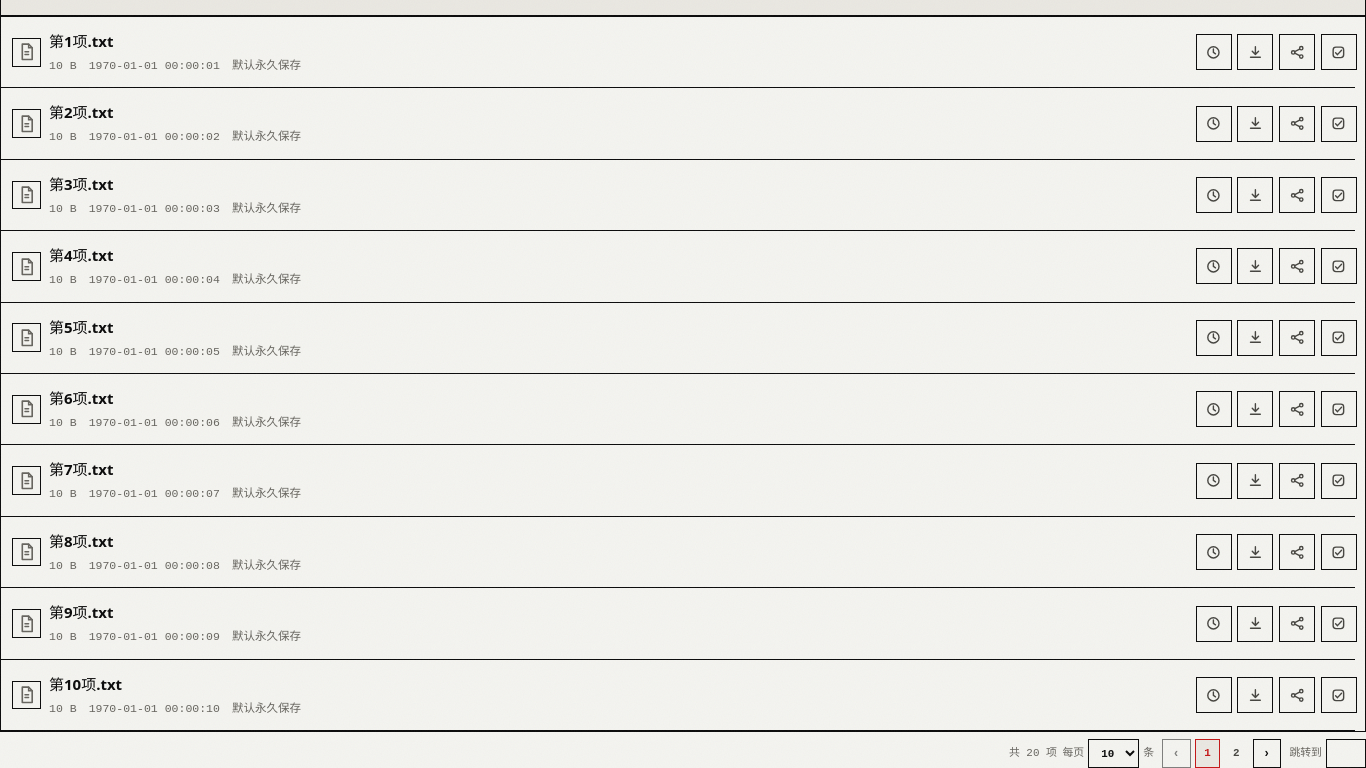
Test case: FileList › paginates file rows with ten items per page
The image size is (1366, 768).
(page scrolled)
Check: the button "1" is shown, box [1195,739,1220,767]
Select "20" in the dropdown named "文件列表每页条数" at (1114, 754), box [1088,739,1139,767]
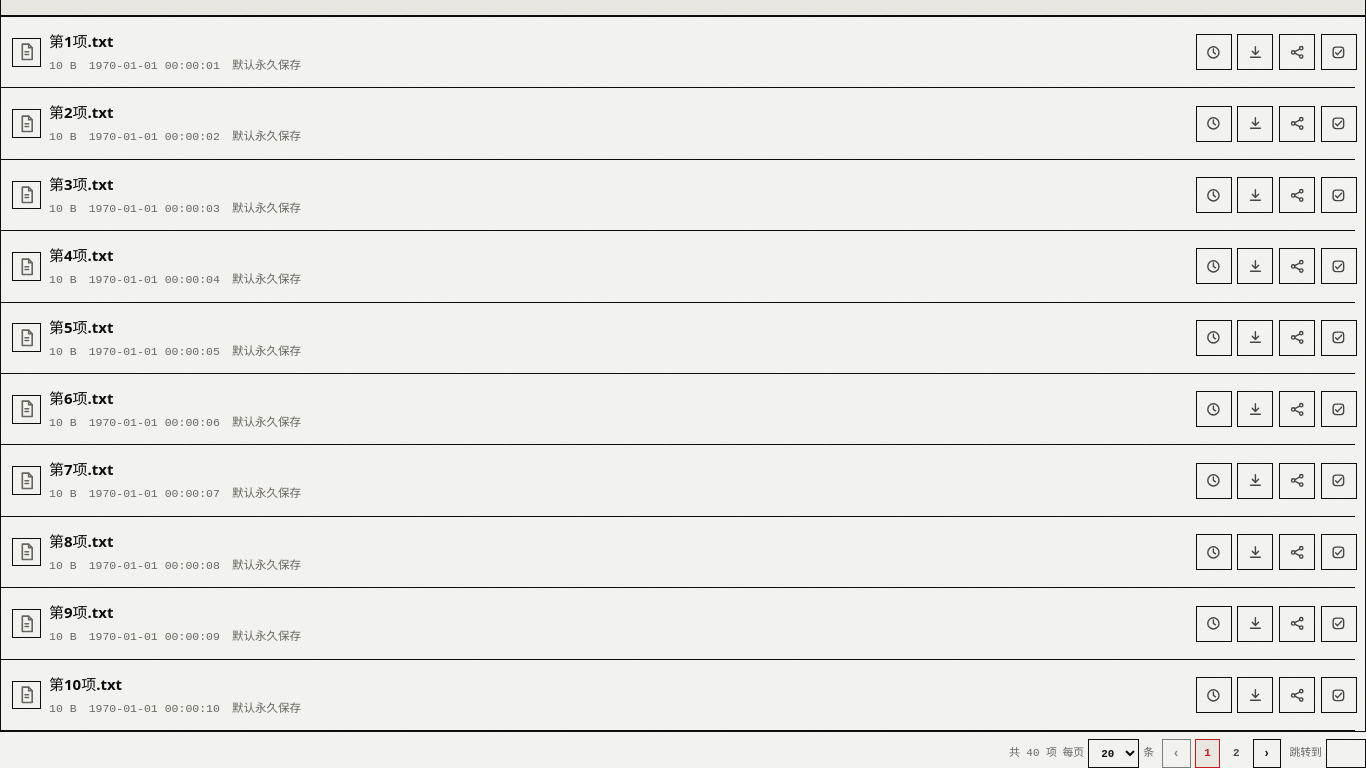
Click the button named "下一页".
click(1267, 754)  # box [1253,739,1281,767]
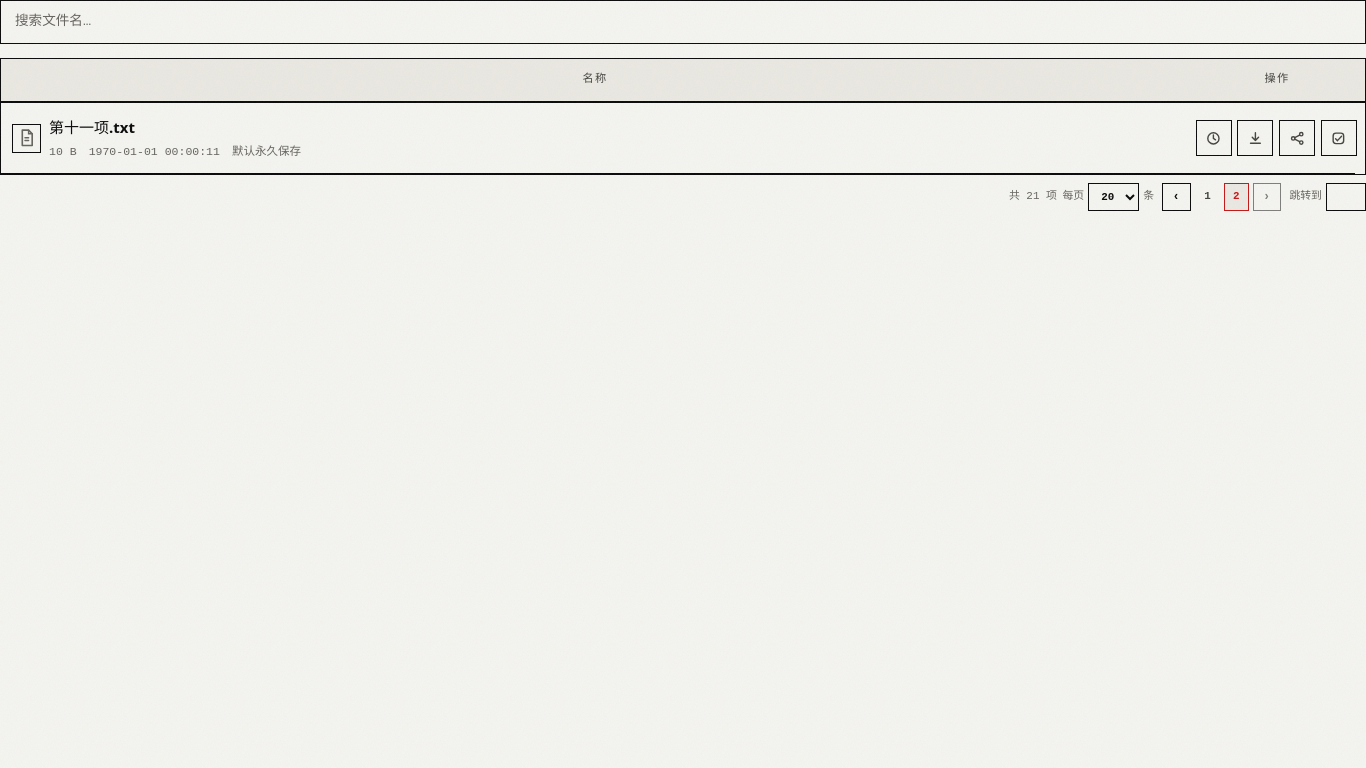
Check: the button "2" is shown, box [1224,182,1249,211]
Check: the text "第十一项.txt" is shown, box [49,117,135,137]
Click the button named "上一页".
click(1177, 197)  # box [1162,182,1191,211]
(page scrolled)
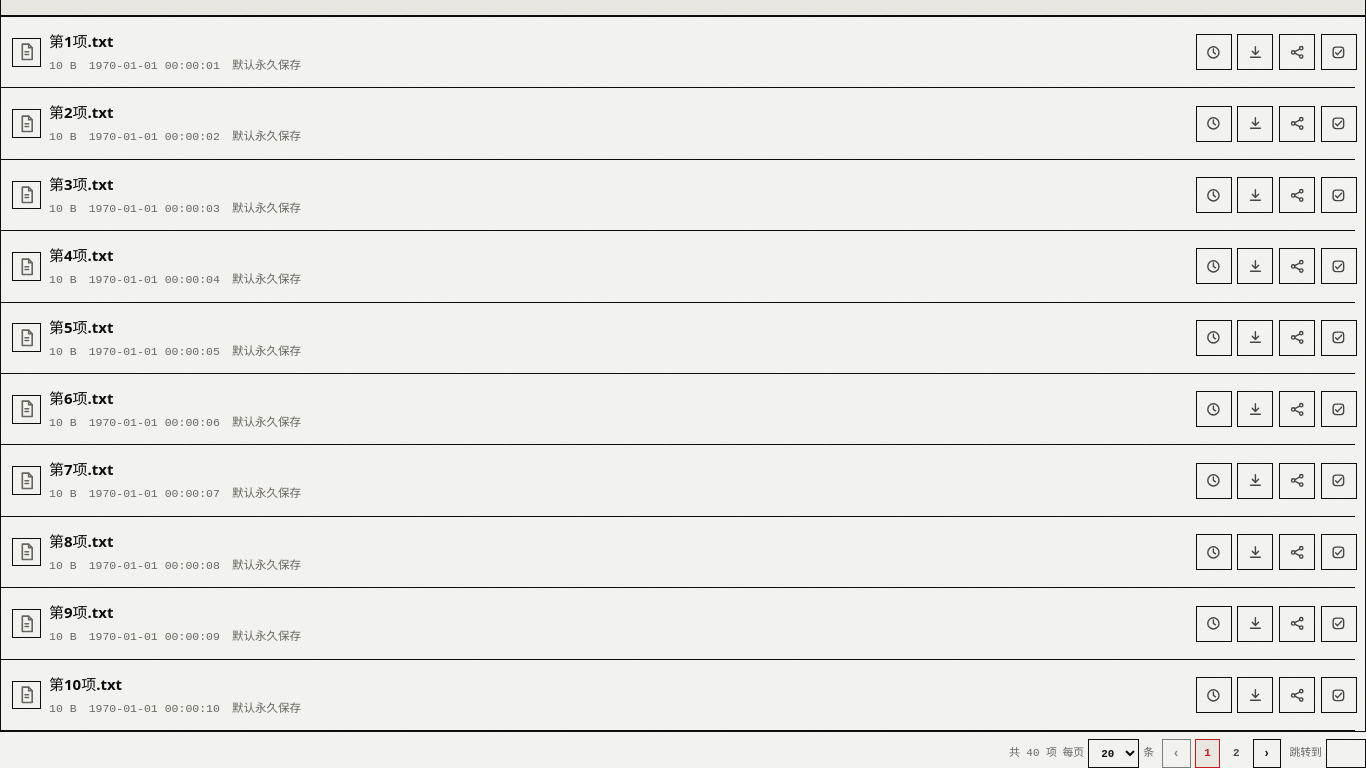
Check: the button "1" is shown, box [1195,739,1220,767]
Check: the text "第1项.txt" is shown, box [49,31,114,51]
